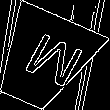M_SW: (8, 27, 79, 93)
